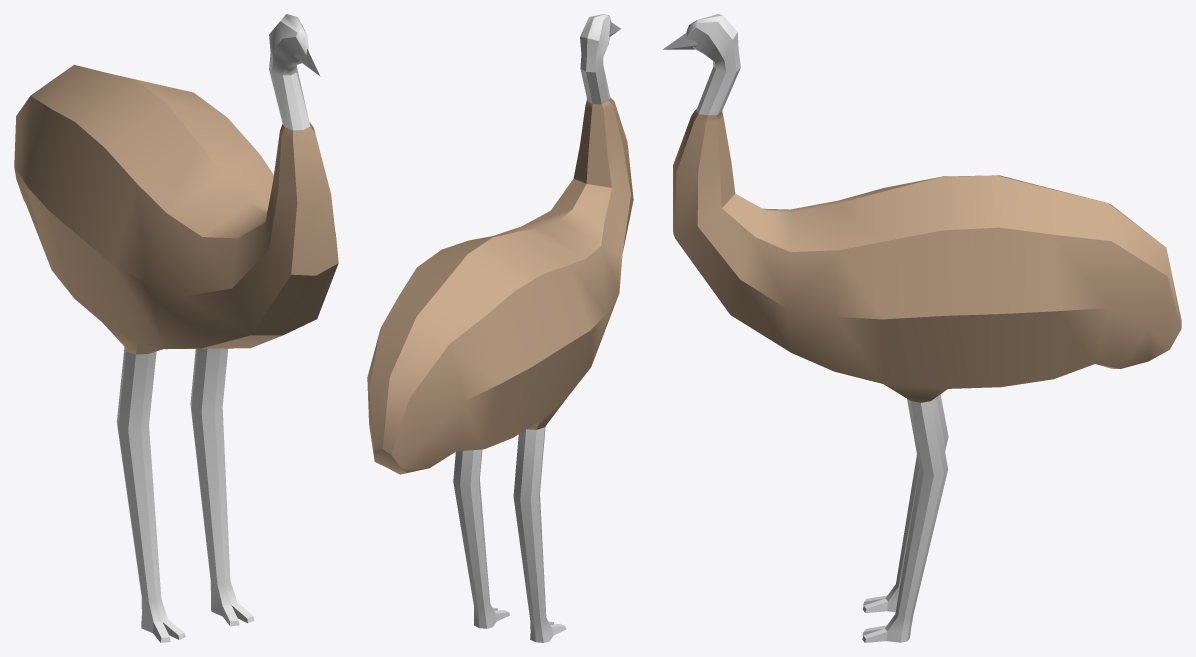
The model's file is Emu.fbx.
3 views of the same model, side by side, from view 1: azimuth 30°, elevation 25°; view 2: azimuth 150°, elevation 25°; view 3: azimuth 270°, elevation 25° (orthographic). The views are drawn at different scales.
Visible parts, largest first — view 1: pCube1; view 2: pCube1; view 3: pCube1.
Boxes of the visible parts, x1,y1,x2,y2 form: pCube1: [14, 14, 338, 642]; pCube1: [367, 14, 633, 642]; pCube1: [673, 14, 1181, 642].
Size of the model in its own units: 3.24 by 12.12 by 9.39.
